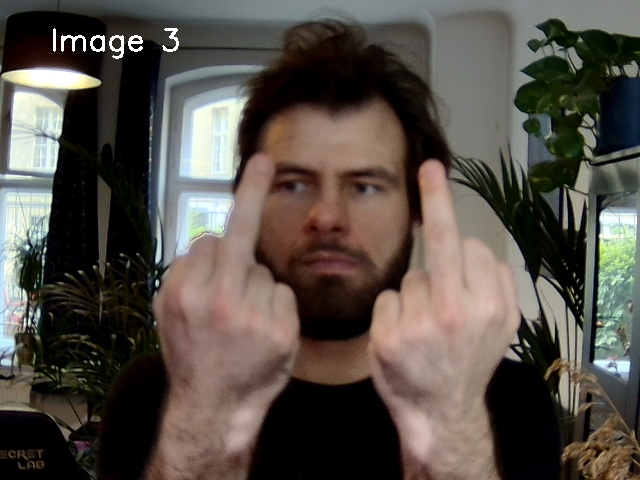Peace Among Worlds: (135, 139, 528, 421)
